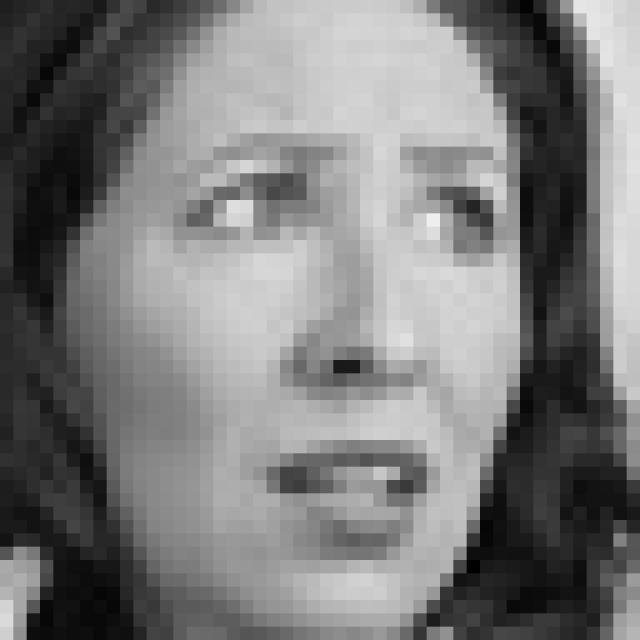fear: (159, 126, 523, 575)
